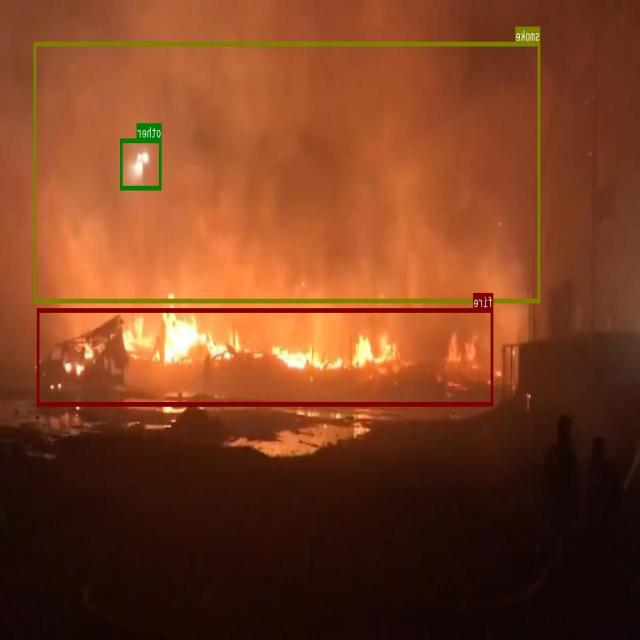fire: (38, 308, 494, 405)
other: (121, 138, 162, 189)
smoke: (34, 41, 540, 302)
